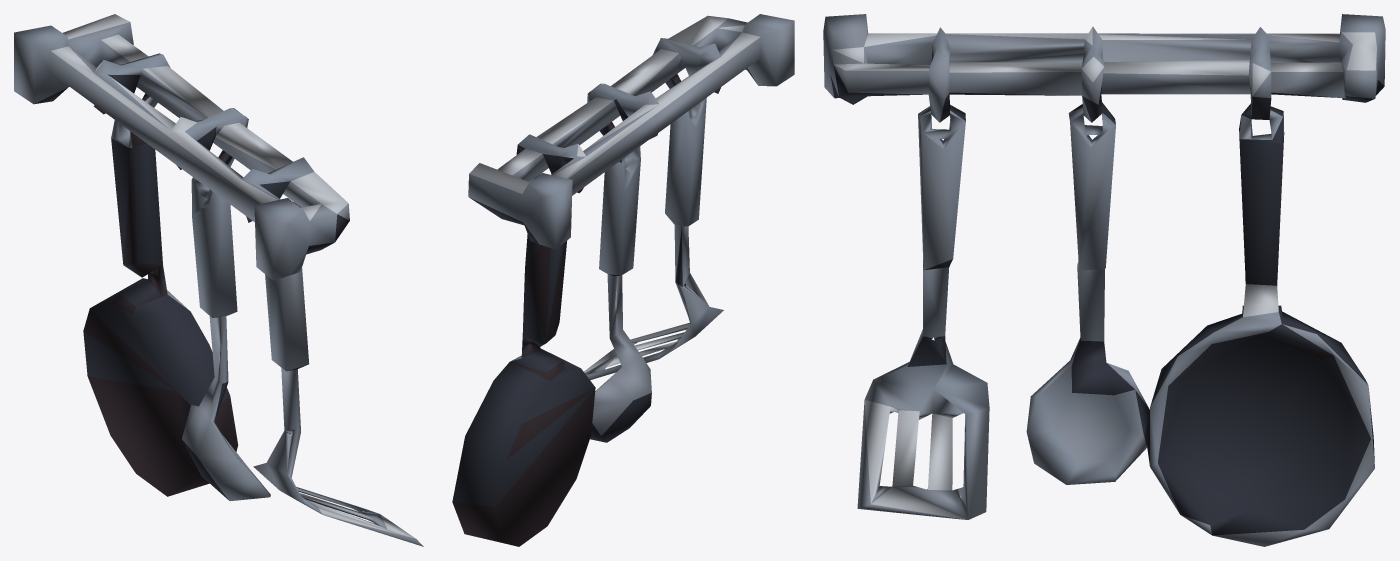
Rendered from SM_utensil_rack.fbx.
3 views of the same model, side by side, from view 1: azimuth 30°, elevation 25°; view 2: azimuth 150°, elevation 25°; view 3: azimuth 270°, elevation 25° (orthographic). The views are drawn at different scales.
Parts seen in each view (by area): view 1: SM_utensil_rack; view 2: SM_utensil_rack; view 3: SM_utensil_rack.
Part boxes in pixels (x1,y1,x2,y2): SM_utensil_rack: (14, 14, 423, 546); SM_utensil_rack: (452, 14, 794, 546); SM_utensil_rack: (823, 14, 1385, 546).
Bounding box in the file's own units: 24.93 × 60 × 64.86.
1 material, 1 textured.
